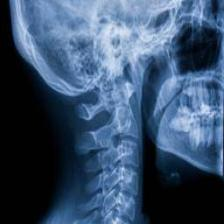spiral-fracture: (9, 0, 224, 224)
